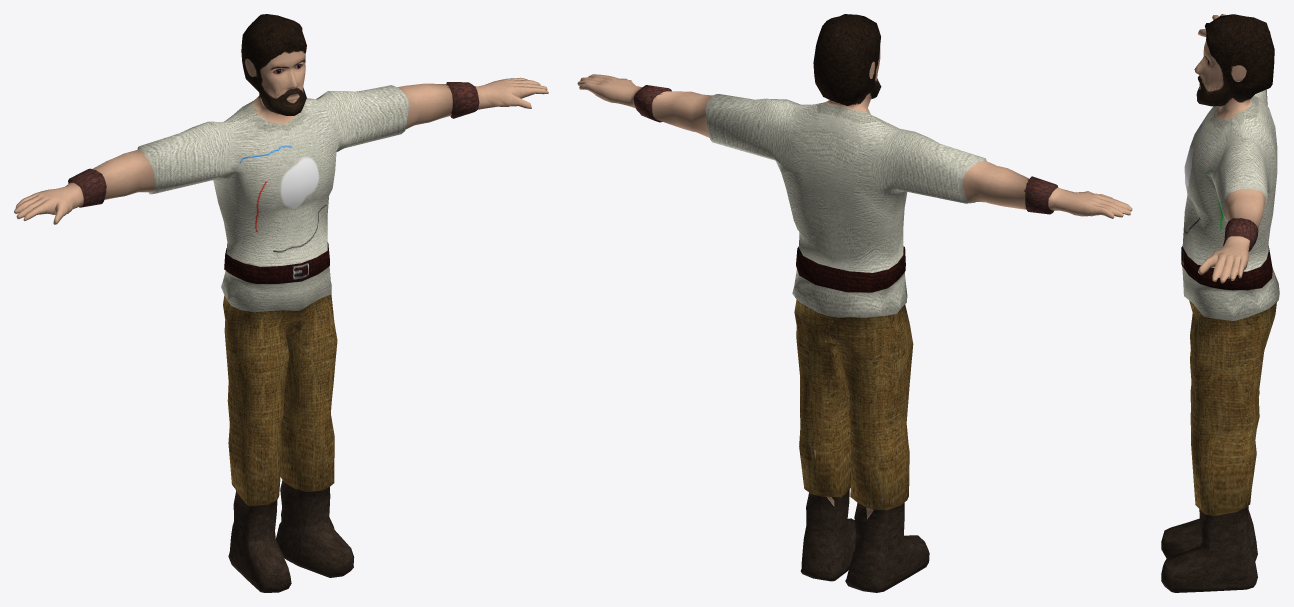
The model's file is lumberJack.DAE.
3 views of the same model, side by side, from view 1: azimuth 30°, elevation 25°; view 2: azimuth 150°, elevation 25°; view 3: azimuth 270°, elevation 25° (orthographic). The views are drawn at different scales.
Visible parts, largest first — view 1: lumberJack; view 2: lumberJack; view 3: lumberJack.
Part boxes in pixels (x1=…): lumberJack: x1=14, y1=14, x2=548, y2=592; lumberJack: x1=577, y1=14, x2=1132, y2=592; lumberJack: x1=1161, y1=14, x2=1279, y2=592.
Size of the model in its own units: 1.86 by 0.3512 by 1.81.
Materials: 1 (1 with a texture image).
